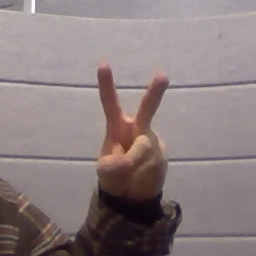V: (92, 61, 172, 193)
